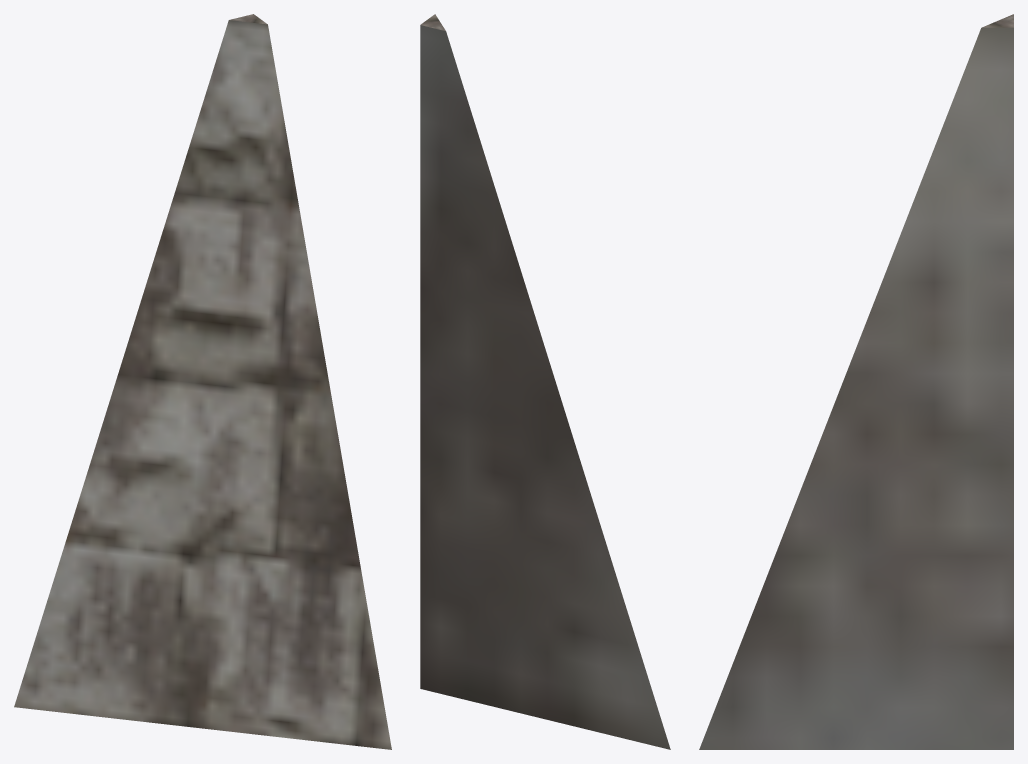
Rendered from foundation_angled_corner.glb.
3 views of the same model, side by side, from view 1: azimuth 30°, elevation 25°; view 2: azimuth 150°, elevation 25°; view 3: azimuth 270°, elevation 25° (orthographic). The views are drawn at different scales.
Visible parts, largest first — view 1: foundation_angled_corner; view 2: foundation_angled_corner; view 3: foundation_angled_corner.
Part boxes in pixels (x1,y1,x2,y2): foundation_angled_corner: (14,14,391,749); foundation_angled_corner: (420,14,670,749); foundation_angled_corner: (699,14,1013,749).
Size of the model in its own units: 1.58 by 4 by 1.58.
1 material, 1 textured.
